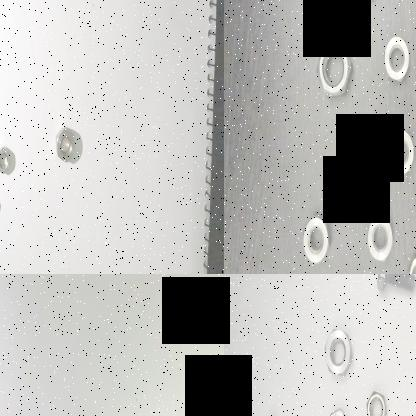Bolts: (371, 274, 416, 304)
NUTS: (314, 37, 352, 97), (320, 318, 355, 382), (379, 30, 413, 86), (300, 209, 332, 264), (366, 213, 396, 260), (386, 127, 414, 176), (52, 123, 78, 170), (363, 386, 390, 416), (321, 402, 357, 416), (0, 140, 13, 178), (405, 252, 416, 274)
